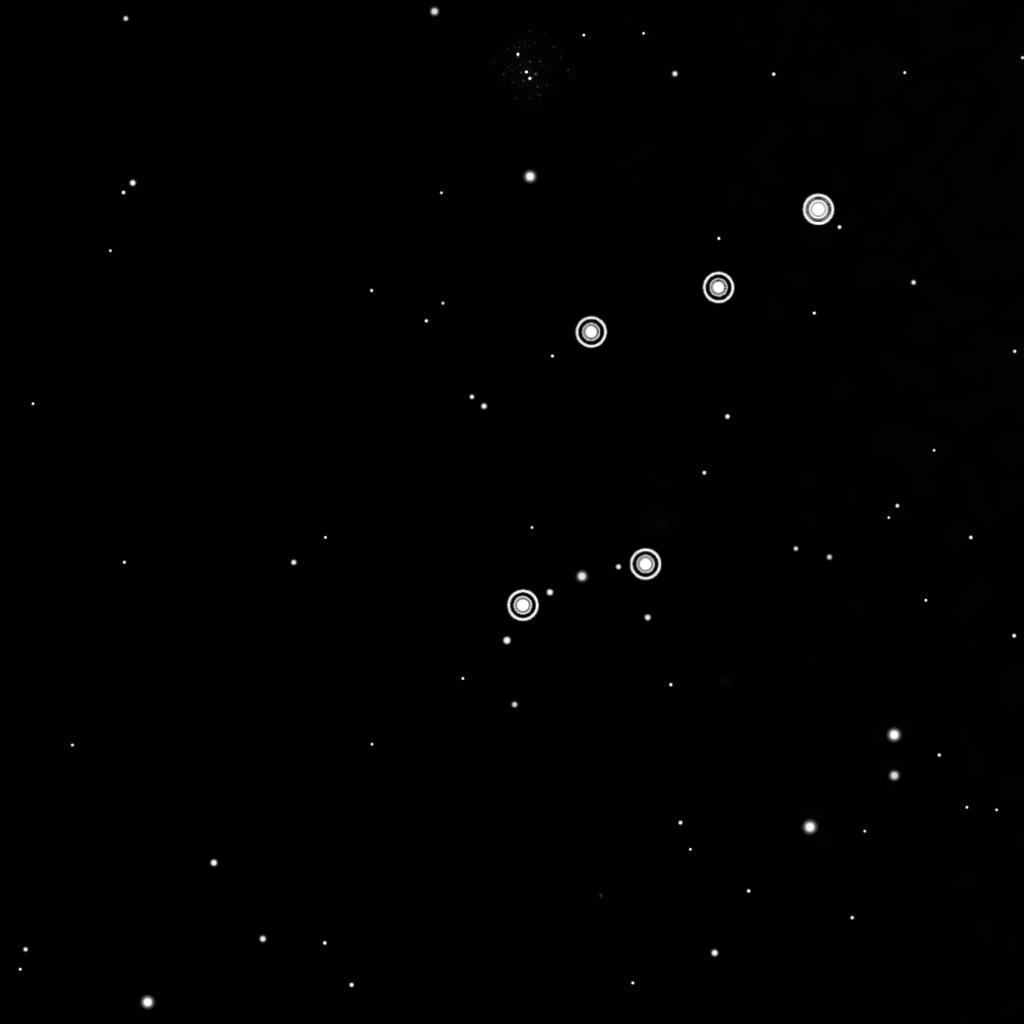lyra: (502, 183, 841, 630)
